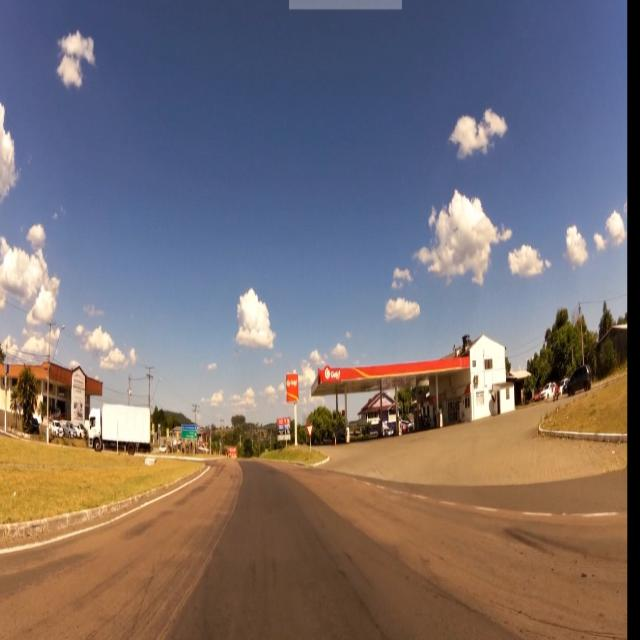R-2: (306, 422, 314, 440)
